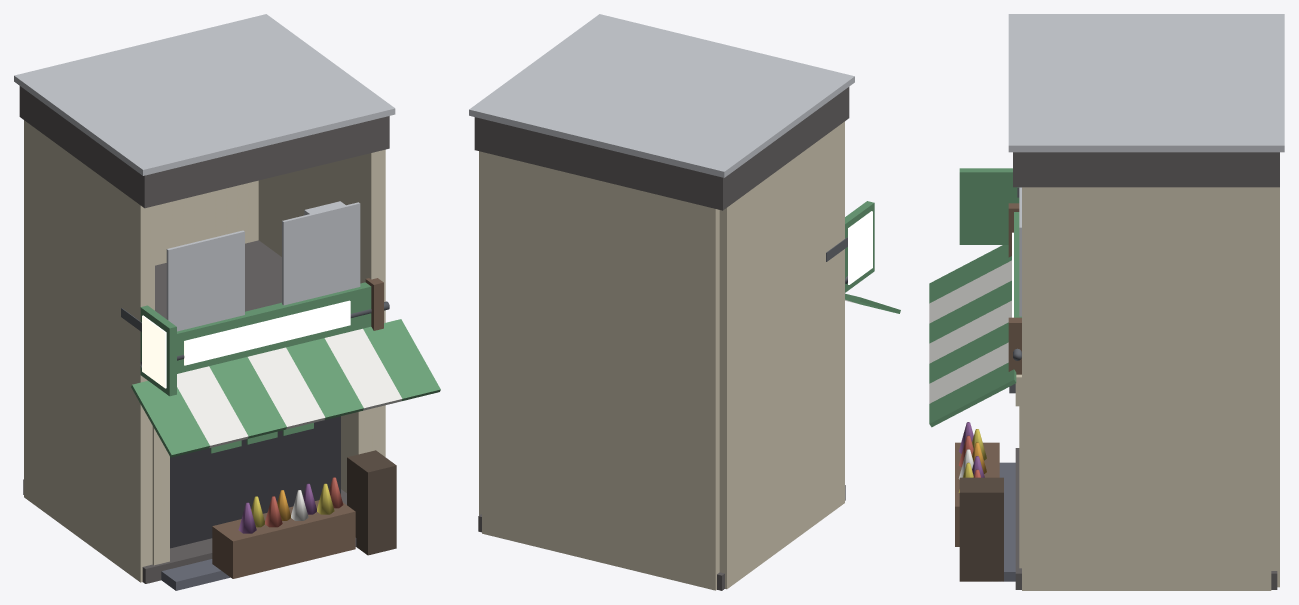
Rendered from prop_shop_hanaya.glb.
3 renders of one model, left to right at view 1: azimuth 30°, elevation 25°; view 2: azimuth 150°, elevation 25°; view 3: azimuth 270°, elevation 25°, orthographic. The views are drawn at different scales.
Parts seen in each view (by area): view 1: shop_hanaya; view 2: shop_hanaya; view 3: shop_hanaya.
Boxes of the visible parts, box(x1,y1,x2,y2) form: shop_hanaya: box(14, 14, 440, 590); shop_hanaya: box(469, 14, 900, 590); shop_hanaya: box(929, 14, 1284, 590).
Size of the model in its own units: 3.73 by 5.54 by 3.99.
